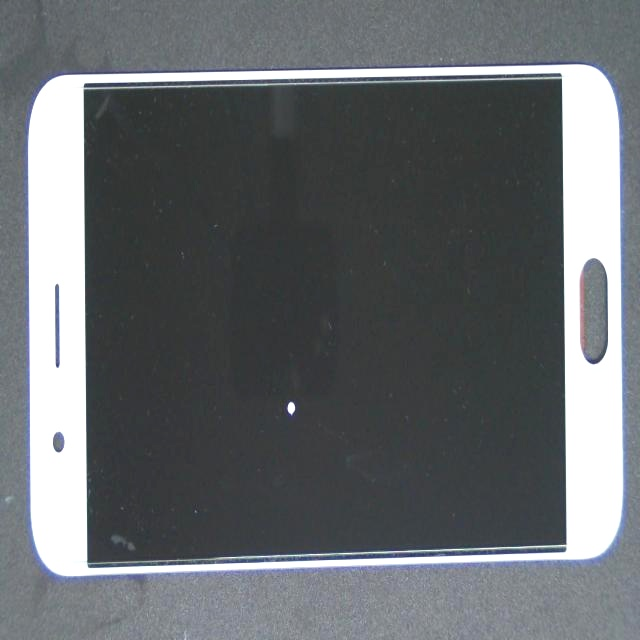stain: (153, 136, 427, 555)
